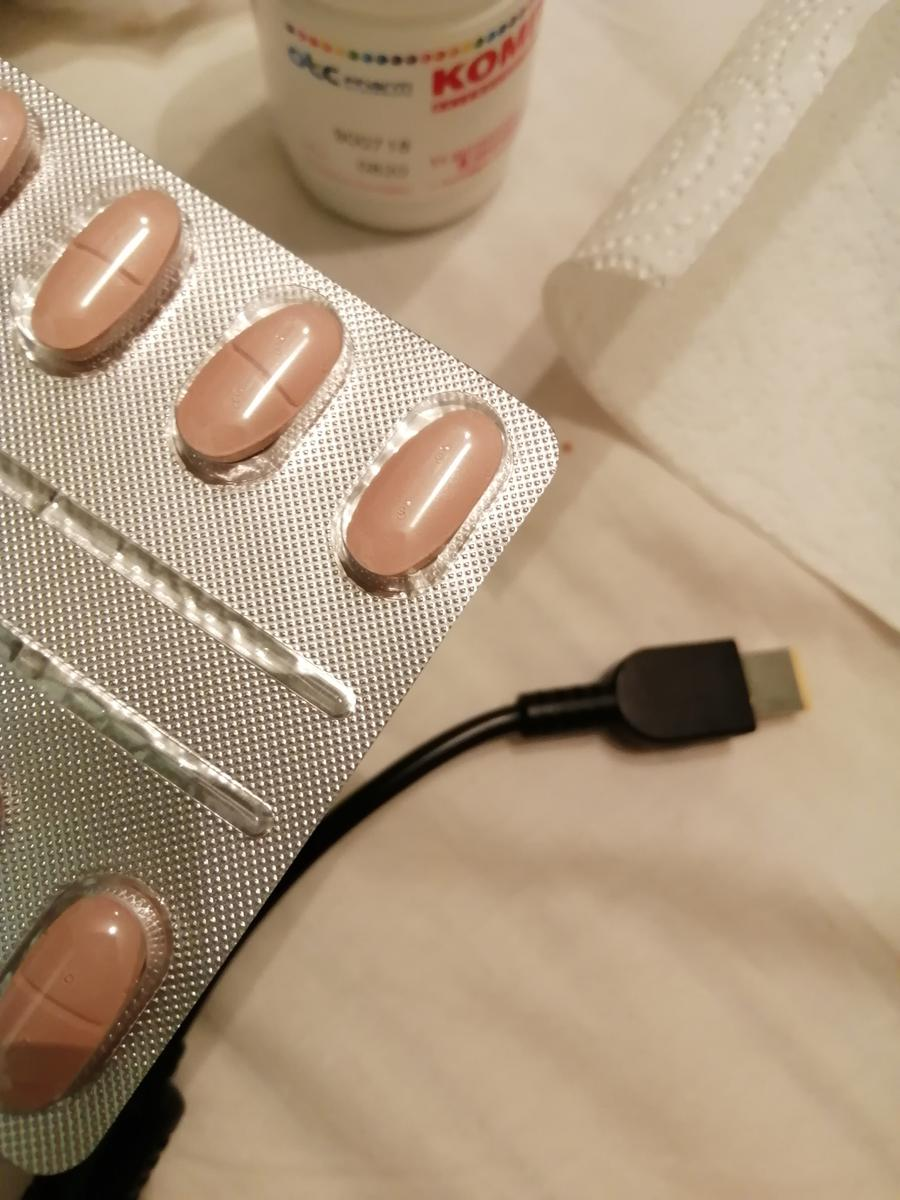tablet: (1, 896, 155, 1119), (348, 411, 513, 585), (27, 185, 184, 357), (175, 299, 336, 464)
